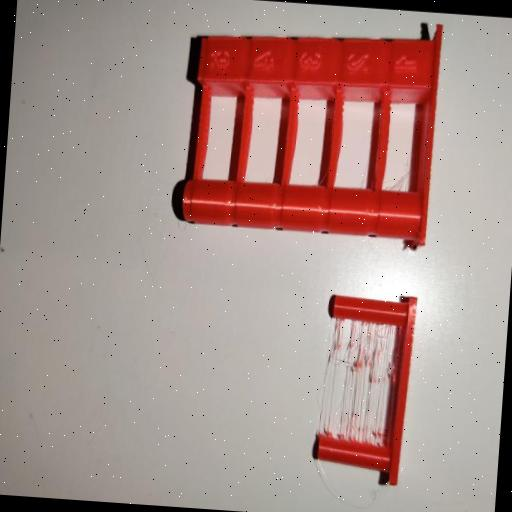stringing: (322, 312, 398, 449)
